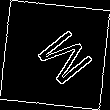M_SW: (21, 21, 89, 89)
